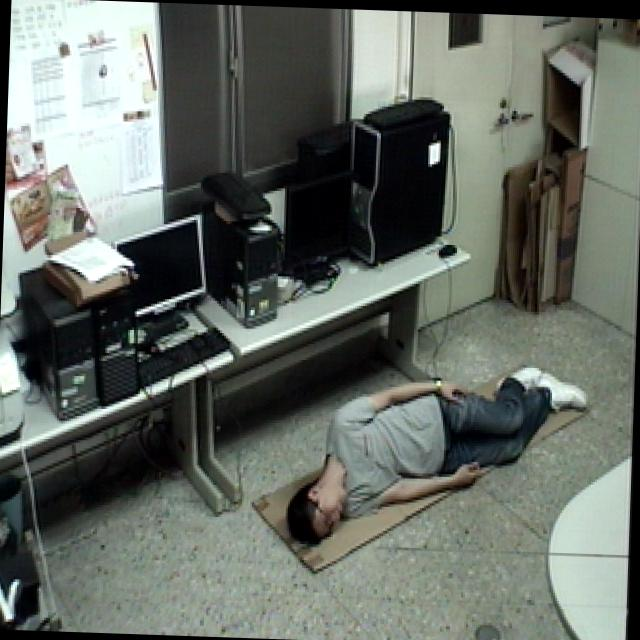lie: (280, 342, 589, 562)
